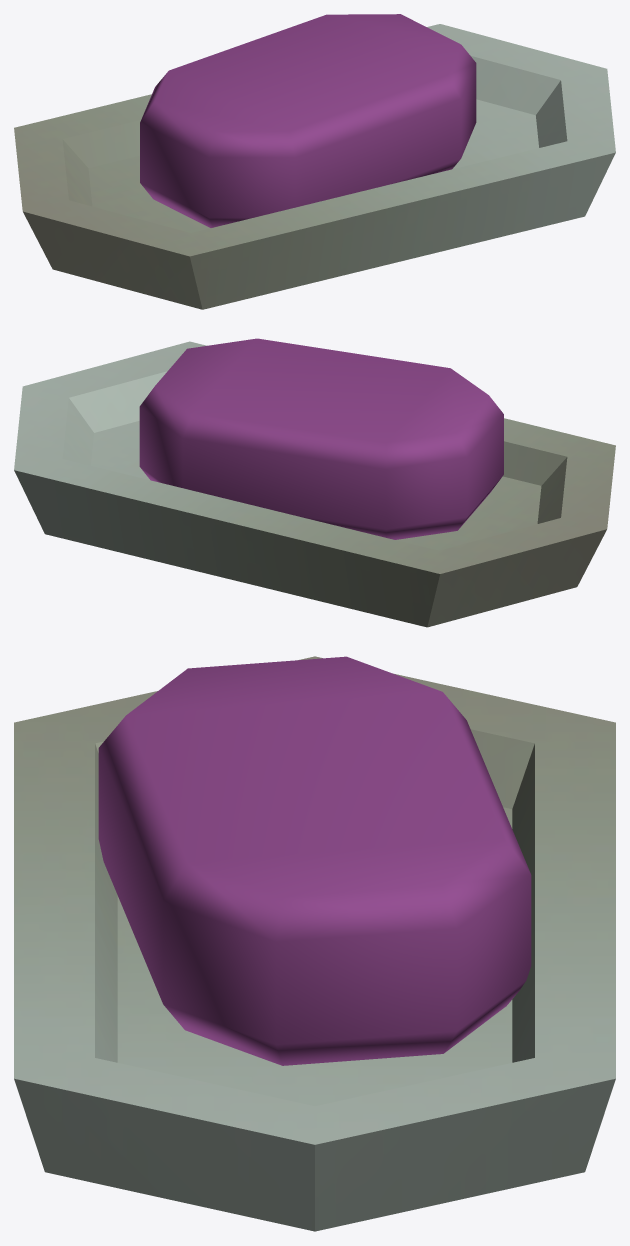
Rendered from SM_Soap_1_04.fbx.
3 views of the same model, one above another, from view 1: azimuth 30°, elevation 25°; view 2: azimuth 150°, elevation 25°; view 3: azimuth 270°, elevation 25° (orthographic). The views are drawn at different scales.
Parts seen in each view (by area): view 1: SM_Soap_1_04; view 2: SM_Soap_1_04; view 3: SM_Soap_1_04.
Boxes of the visible parts, x1,y1,x2,y2 form: SM_Soap_1_04: (14,14,615,309); SM_Soap_1_04: (14,338,615,627); SM_Soap_1_04: (14,656,615,1231).
Bounding box in the file's own units: 9.53 × 2.09 × 4.96.
